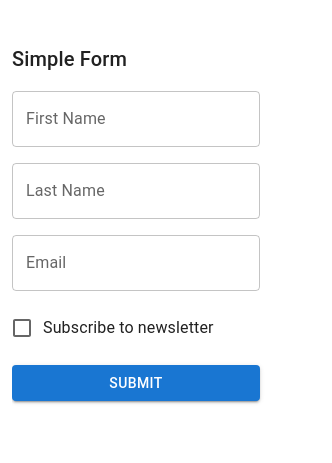
it: SimpleForm › displays validation errors for required fields on submit
Click the button "Submit".
click(136, 383)  # box [12,365,260,401]
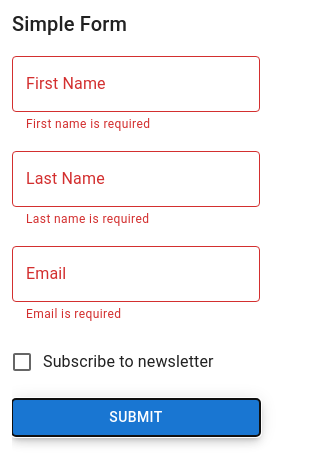
Expected: the text "First name is required" is shown, [26,117,150,131]
Expected: the text "Last name is required" is shown, [26,212,149,226]
Expected: the text "Email is required" is shown, [26,307,121,321]
